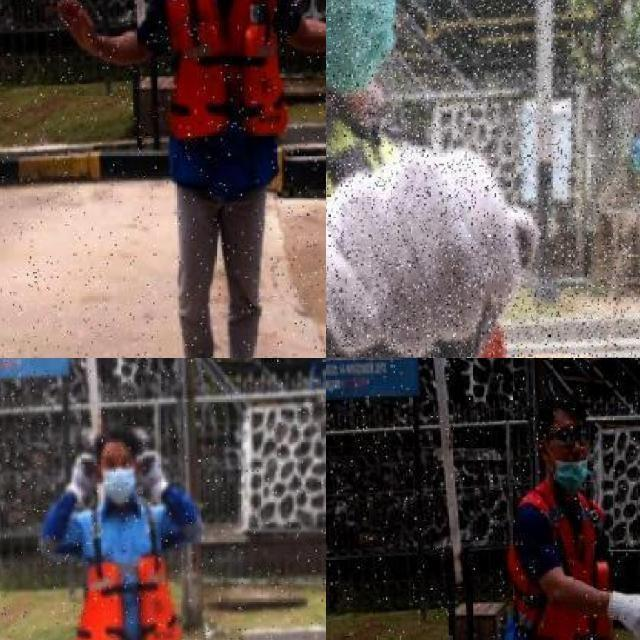apron: (326, 131, 530, 358), (64, 452, 101, 505), (605, 586, 640, 640), (133, 451, 169, 502)
